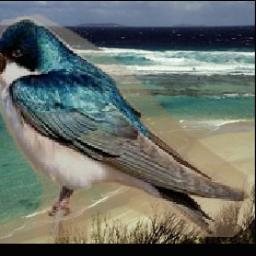Swallow: (0, 15, 251, 238)
